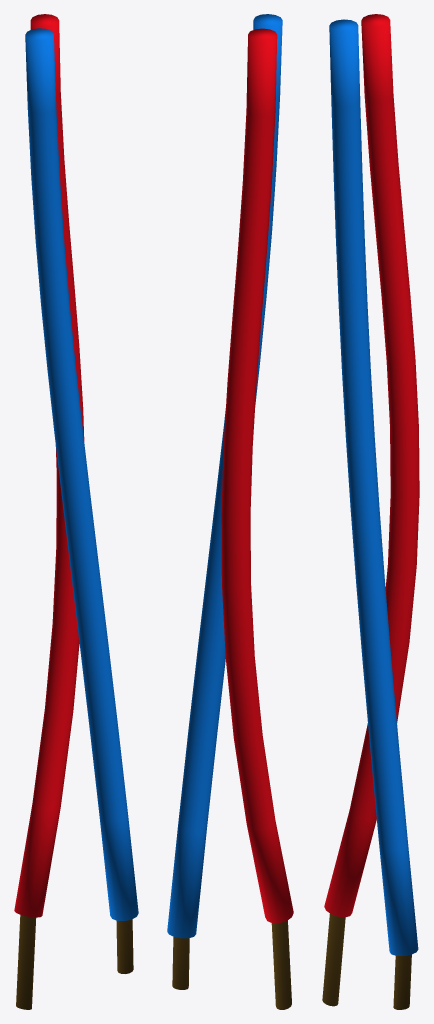
File: cable duo long.glb
3 views of the same model, side by side, from view 1: azimuth 30°, elevation 25°; view 2: azimuth 210°, elevation 25°; view 3: azimuth 330°, elevation 25° (orthographic).
Parts seen in each view (by area): view 1: BézierCurve.001; view 2: BézierCurve.001; view 3: BézierCurve.001.
Part boxes in pixels (x1,y1,x2,y2): BézierCurve.001: (14, 14, 138, 1009); BézierCurve.001: (167, 14, 293, 1009); BézierCurve.001: (322, 14, 419, 1009).
Bounding box in the file's own units: 0.256 × 2.25 × 0.1784.
